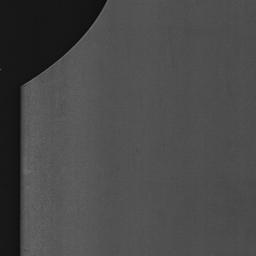Crescent gap: (22, 0, 105, 86)
